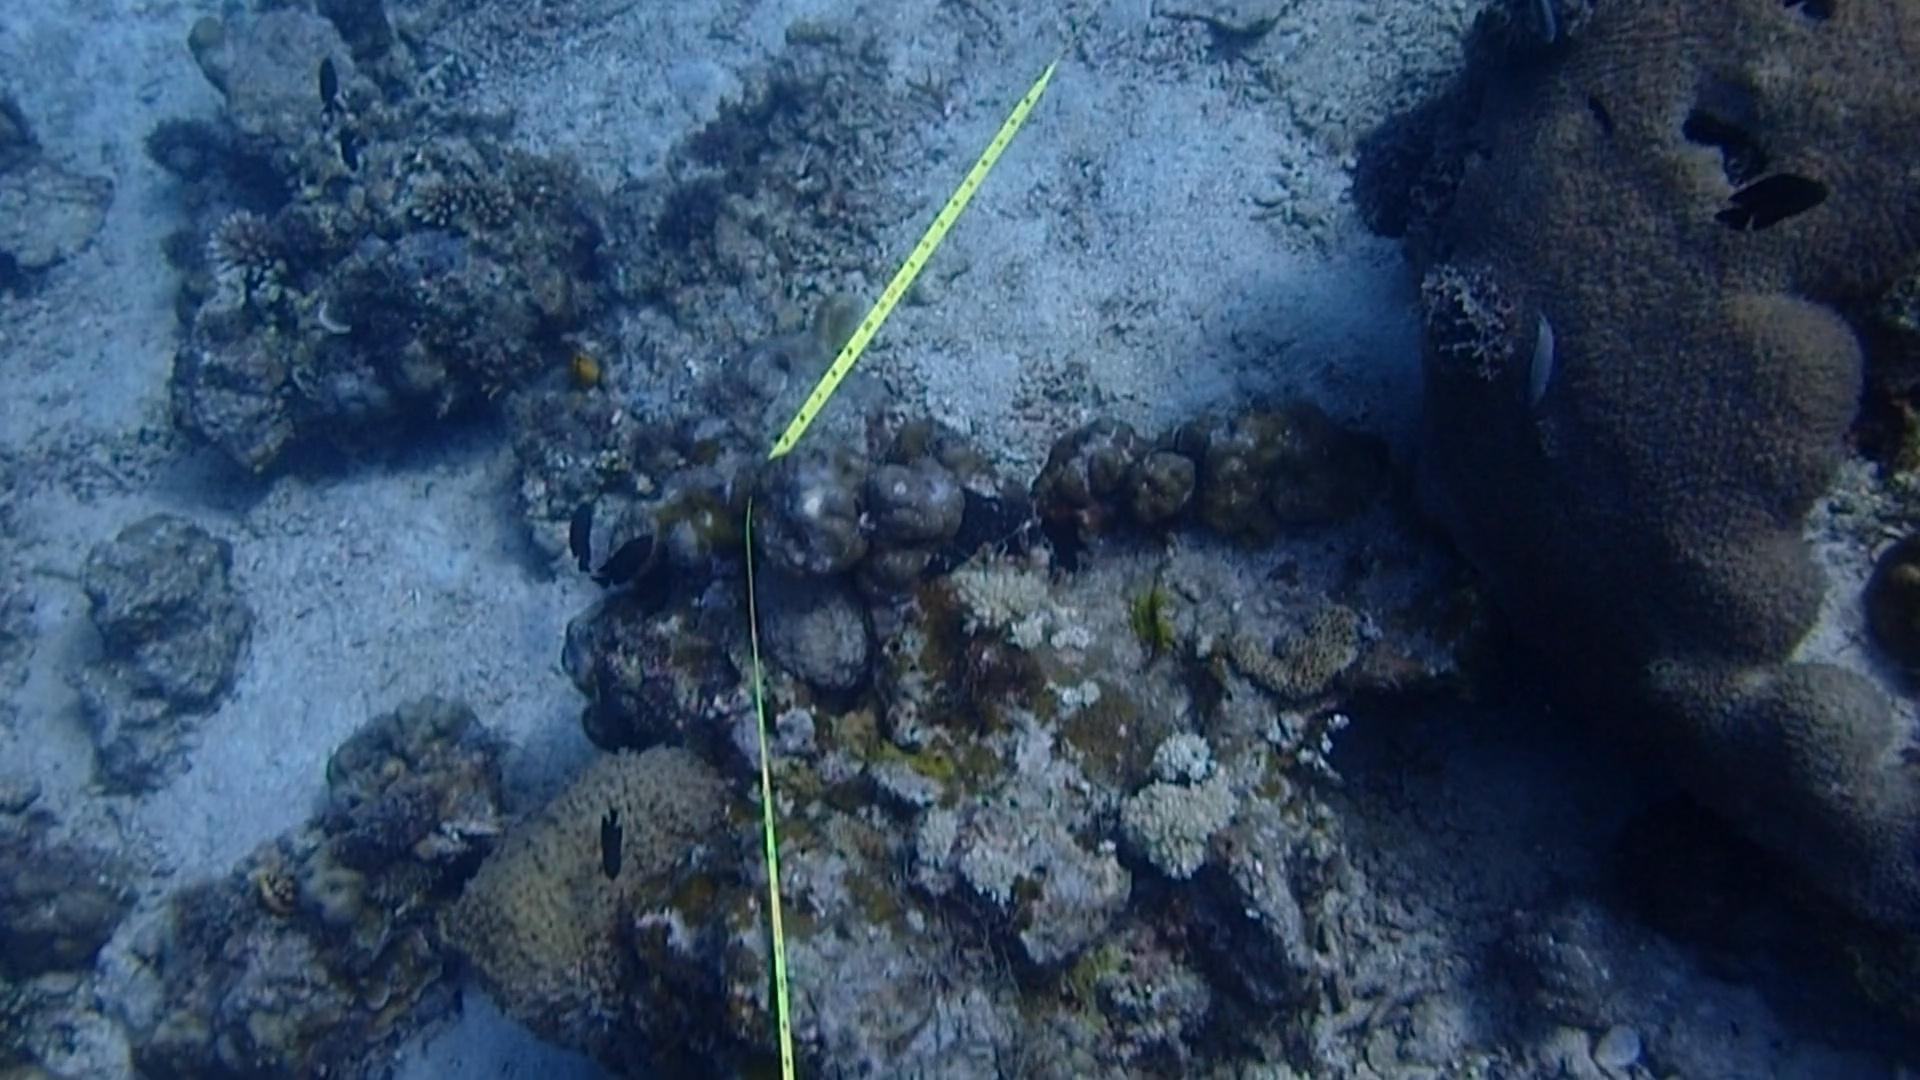Dark Fish: (410, 814, 512, 930), (1718, 161, 1832, 251), (584, 518, 665, 600), (571, 803, 645, 889), (1576, 87, 1640, 149), (549, 487, 605, 555), (309, 38, 359, 111), (332, 121, 381, 181)
Light Fish: (1518, 311, 1571, 404)
